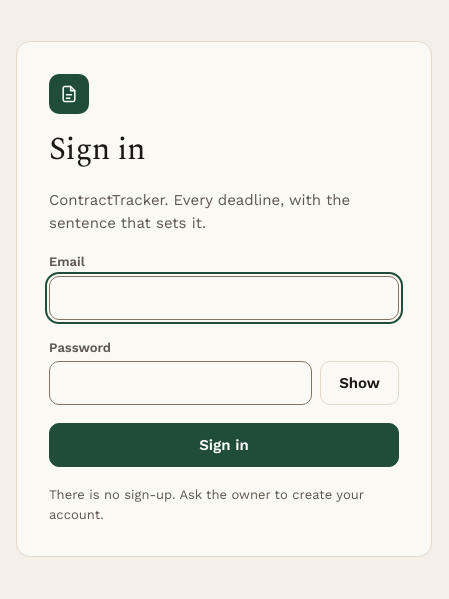
Test case: the login page › TC-0204: an empty form is refused with a message under each field and no request
Expected: the heading "Sign in" is shown, [49,125,145,174]
Step 1. Click the button "Sign in" → [224, 445], box [49,423,399,467]
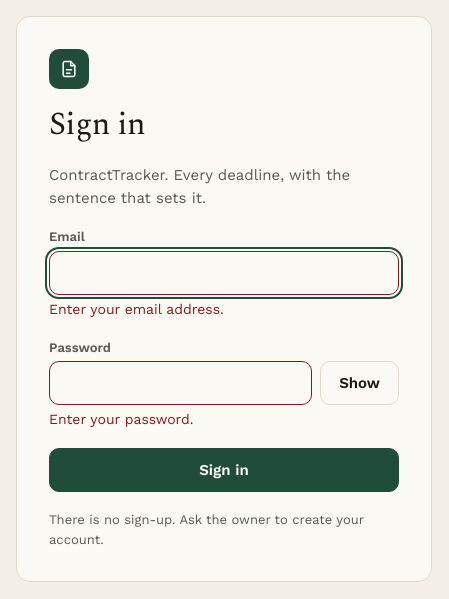
Now the text "Enter your email address." is shown, box [49,301,224,317]
Now the text "Enter your password." is shown, box [49,411,194,427]
